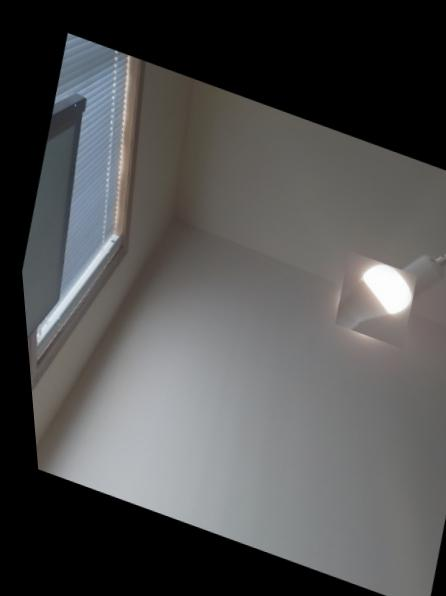TubeLight: (325, 240, 419, 341)
